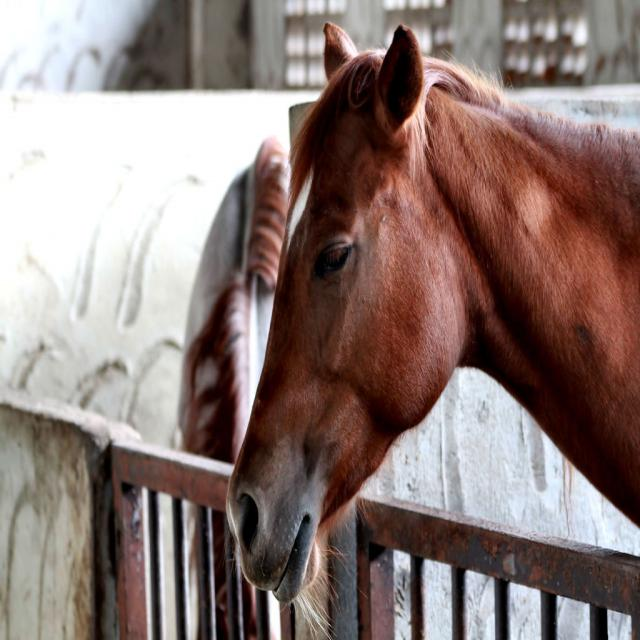Horse: (224, 23, 638, 640)
